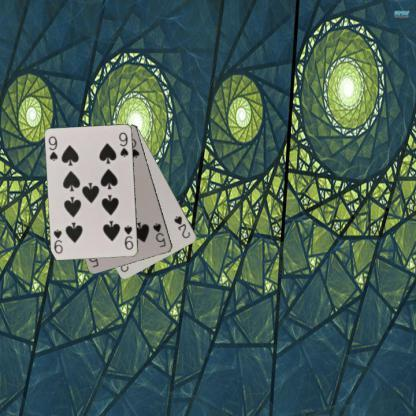2s: (172, 213, 192, 240)
5s: (150, 220, 167, 249)
9s: (46, 134, 59, 162), (122, 222, 134, 252)
